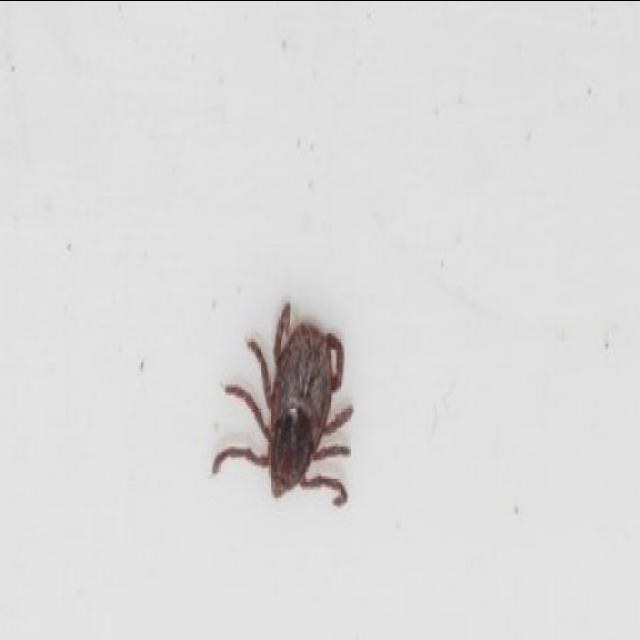Rhipicephalus Sanguineus-F: (217, 303, 357, 505)
